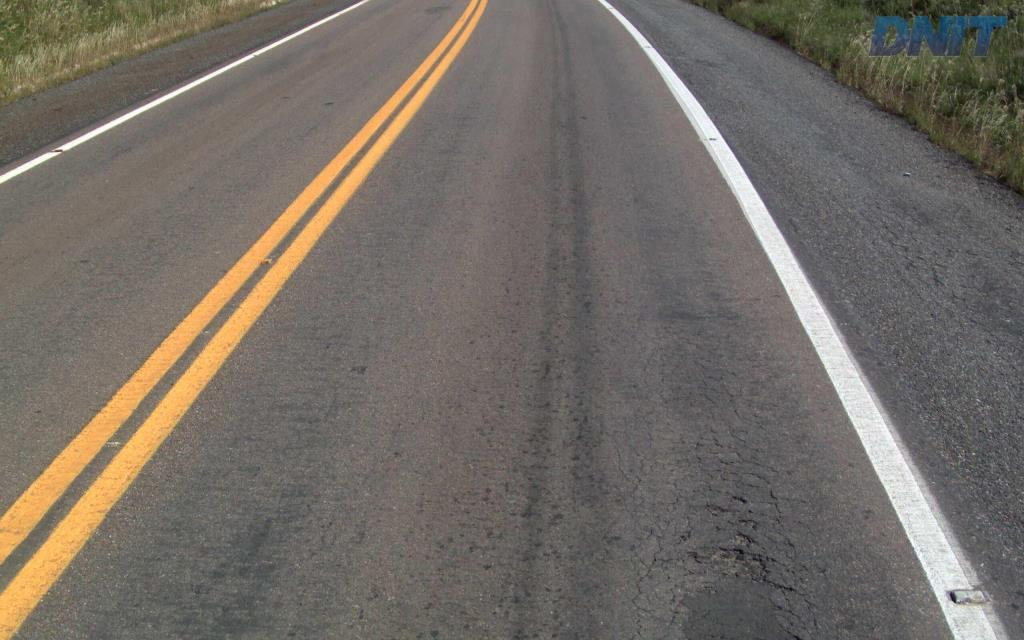crack: (686, 530, 808, 596)
pothole: (696, 525, 764, 580)
